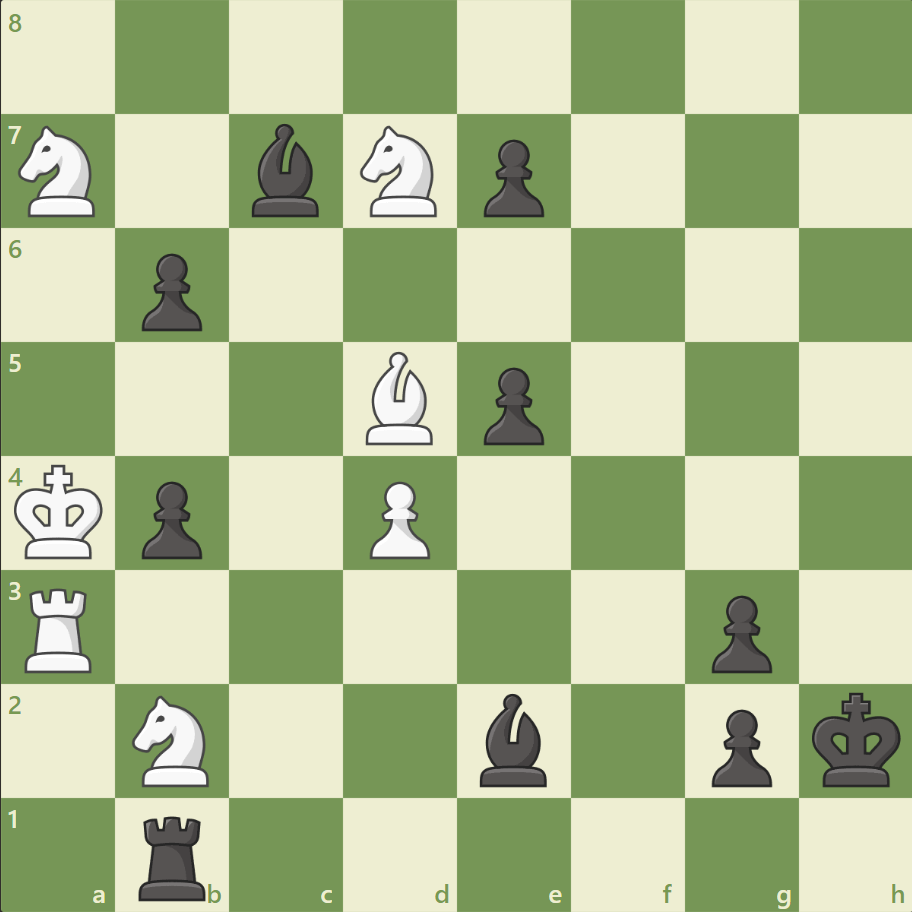B: (358, 347, 442, 449)
K: (11, 458, 111, 566)
N: (124, 688, 222, 791), (351, 121, 449, 223), (11, 121, 108, 223)
P: (361, 473, 435, 564)
R: (19, 579, 102, 676)
b: (471, 687, 555, 790), (244, 120, 328, 222)
k: (806, 685, 906, 793)
p: (474, 132, 549, 223), (133, 246, 208, 337), (474, 359, 549, 450), (133, 473, 208, 564), (701, 586, 776, 677), (701, 700, 776, 791)
r: (133, 806, 215, 904)
